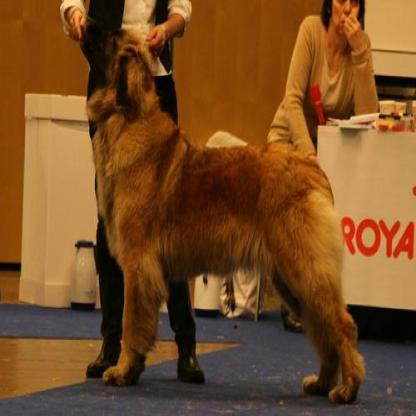Leonberg: (76, 21, 365, 406)
